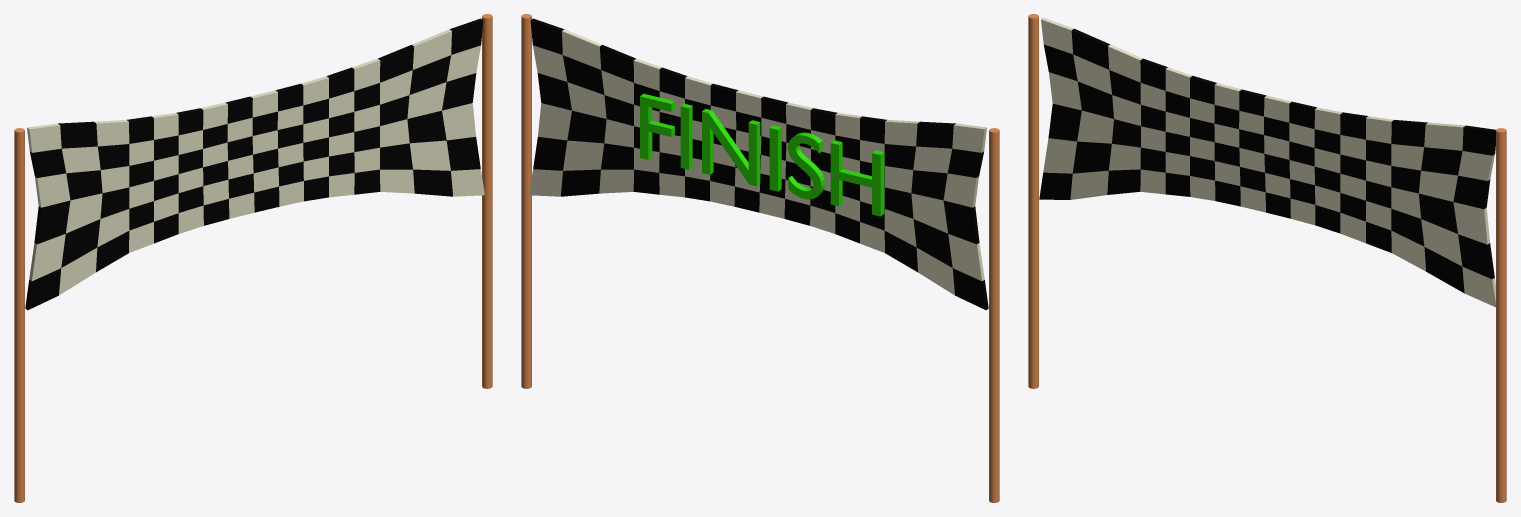
The model's file is Finish.fbx.
3 renders of one model, left to right at view 1: azimuth 30°, elevation 25°; view 2: azimuth 150°, elevation 25°; view 3: azimuth 330°, elevation 25°, orthographic.
Parts seen in each view (by area): view 1: Flag, Poles; view 2: Flag, Finish, Poles; view 3: Flag, Poles.
Part boxes in pixels (<box>): Flag: <box>25,18,484,310</box>; Poles: <box>14,14,492,502</box>; Flag: <box>529,18,988,310</box>; Finish: <box>640,93,884,216</box>; Poles: <box>521,14,999,502</box>; Flag: <box>1039,17,1495,307</box>; Poles: <box>1028,14,1506,502</box>.
Bounding box in the file's own units: 1046 × 777 × 28.83.
